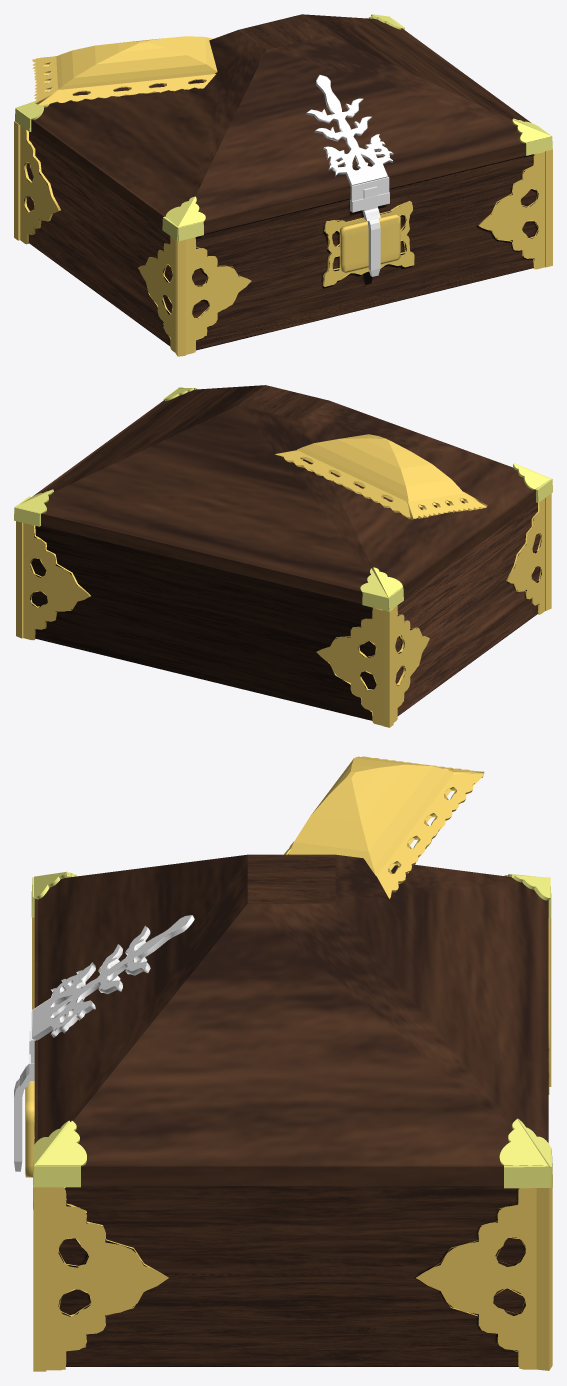
The model's file is thebox.gltf.
3 renders of one model, top to bottom at view 1: azimuth 30°, elevation 25°; view 2: azimuth 150°, elevation 25°; view 3: azimuth 270°, elevation 25°, orthographic. The views are drawn at different scales.
Parts seen in each view (by area): view 1: Cube.001, Cube, Curve.003, Curve.012, Curve, Curve.001, Cube.013; view 2: Cube.001, Cube, Curve.003, Curve.012, Cube.013; view 3: Cube.001, Cube, Curve.003, Curve.012, Cube.013, Curve, Curve.001.
Part boxes in pixels (x1,y1,x2,y2): Cube.001: (31,14,530,233); Cube: (24,132,538,350); Curve.003: (14,121,552,356); Curve.012: (32,36,217,105); Curve: (306,75,393,276); Curve.001: (323,201,414,286); Cube.013: (15,14,552,241); Cube.001: (33,385,535,603); Cube: (30,502,541,720); Curve.003: (16,493,551,727); Curve.012: (275,434,487,519); Cube.013: (14,387,552,611); Cube.001: (34,854,548,1185); Cube: (58,1186,525,1366); Curve.003: (32,917,552,1371); Curve.012: (284,756,484,898); Cube.013: (31,871,552,1188); Curve: (14,915,194,1171); Curve.001: (25,1081,34,1209).
Size of the model in its own units: 4.47 by 2.33 by 3.18.
7 materials, 6 textured.
